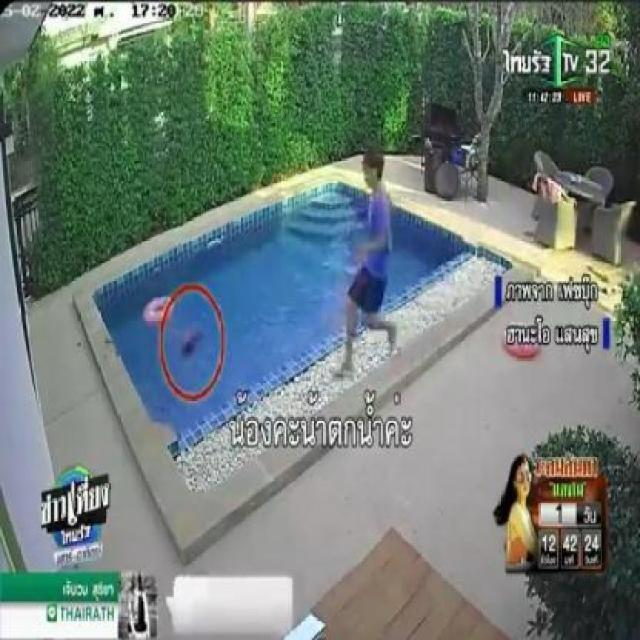drowning: (177, 316, 205, 362)
